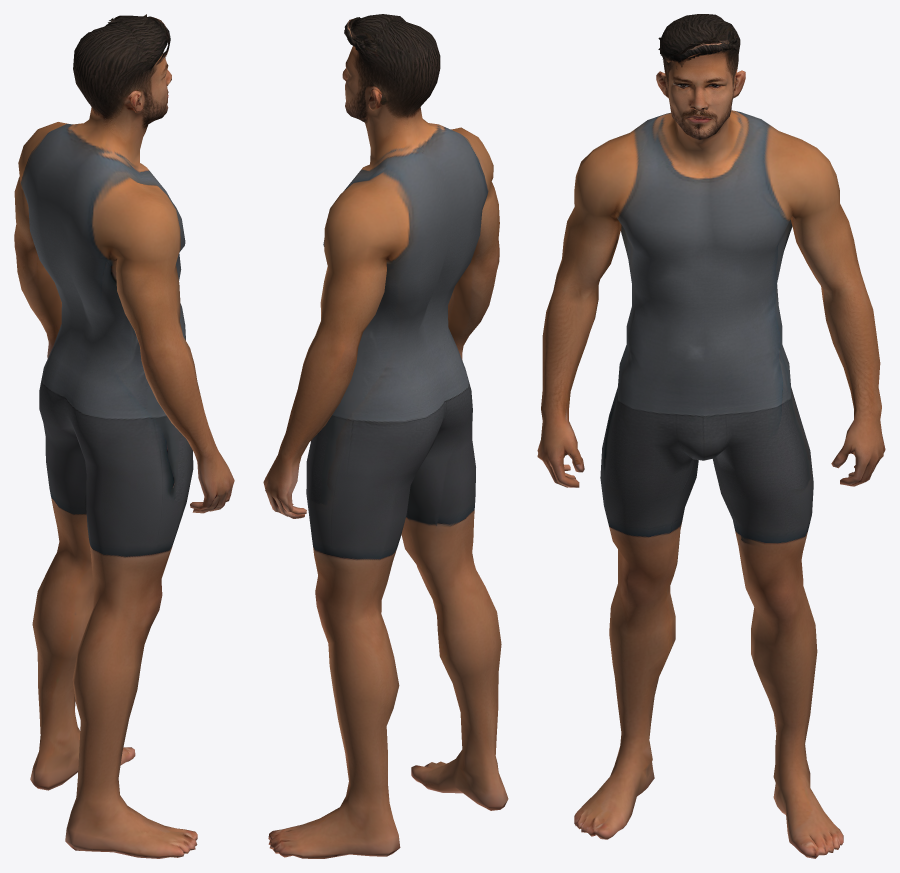
Rendered from athletic_man.glb.
The picture shows the model from 3 angles, left to right: view 1: azimuth 30°, elevation 25°; view 2: azimuth 150°, elevation 25°; view 3: azimuth 270°, elevation 25°; orthographic projection. The views are drawn at different scales.
Visible parts, largest first — view 1: tripo_node_4ef9b994-bb9d-4338-b7bc-af81d1b8c977; view 2: tripo_node_4ef9b994-bb9d-4338-b7bc-af81d1b8c977; view 3: tripo_node_4ef9b994-bb9d-4338-b7bc-af81d1b8c977.
Boxes of the visible parts, x1,y1,x2,y2 form: tripo_node_4ef9b994-bb9d-4338-b7bc-af81d1b8c977: (14,14,234,858); tripo_node_4ef9b994-bb9d-4338-b7bc-af81d1b8c977: (263,14,508,858); tripo_node_4ef9b994-bb9d-4338-b7bc-af81d1b8c977: (537,14,885,858).
Size of the model in its own units: 0.1973 by 0.998 by 0.3887.
Materials: 1 (1 with a texture image).
